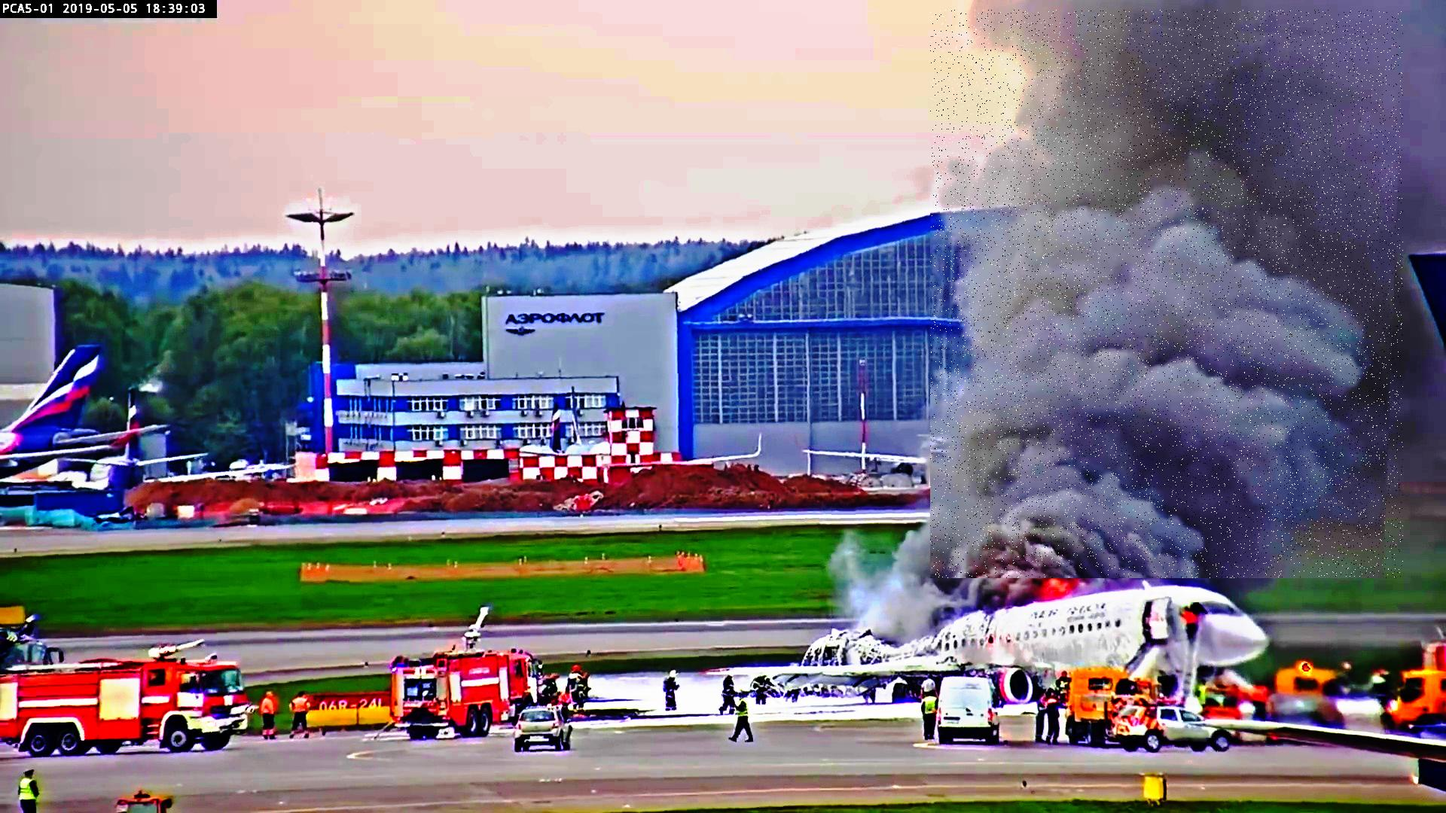smoke: (930, 10, 1403, 578)
